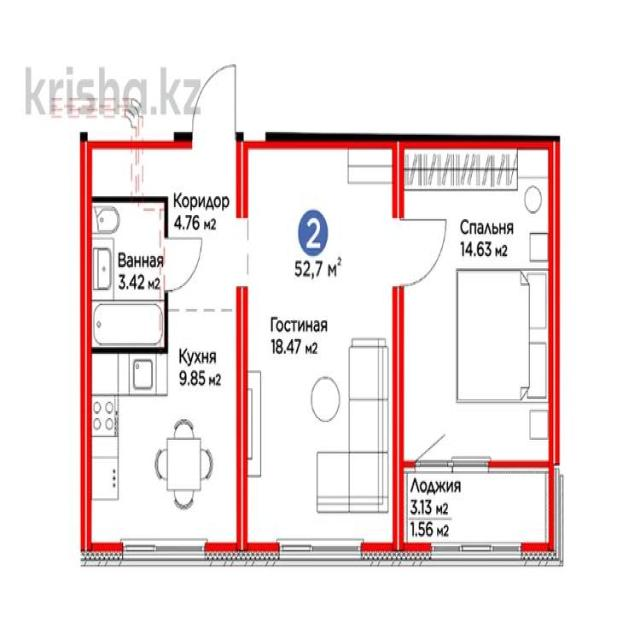balcony: (403, 469, 554, 550)
hallway: (169, 150, 236, 309)
kitchen: (92, 350, 238, 546)
living_room: (246, 149, 394, 541), (399, 142, 549, 461), (89, 201, 164, 349)
